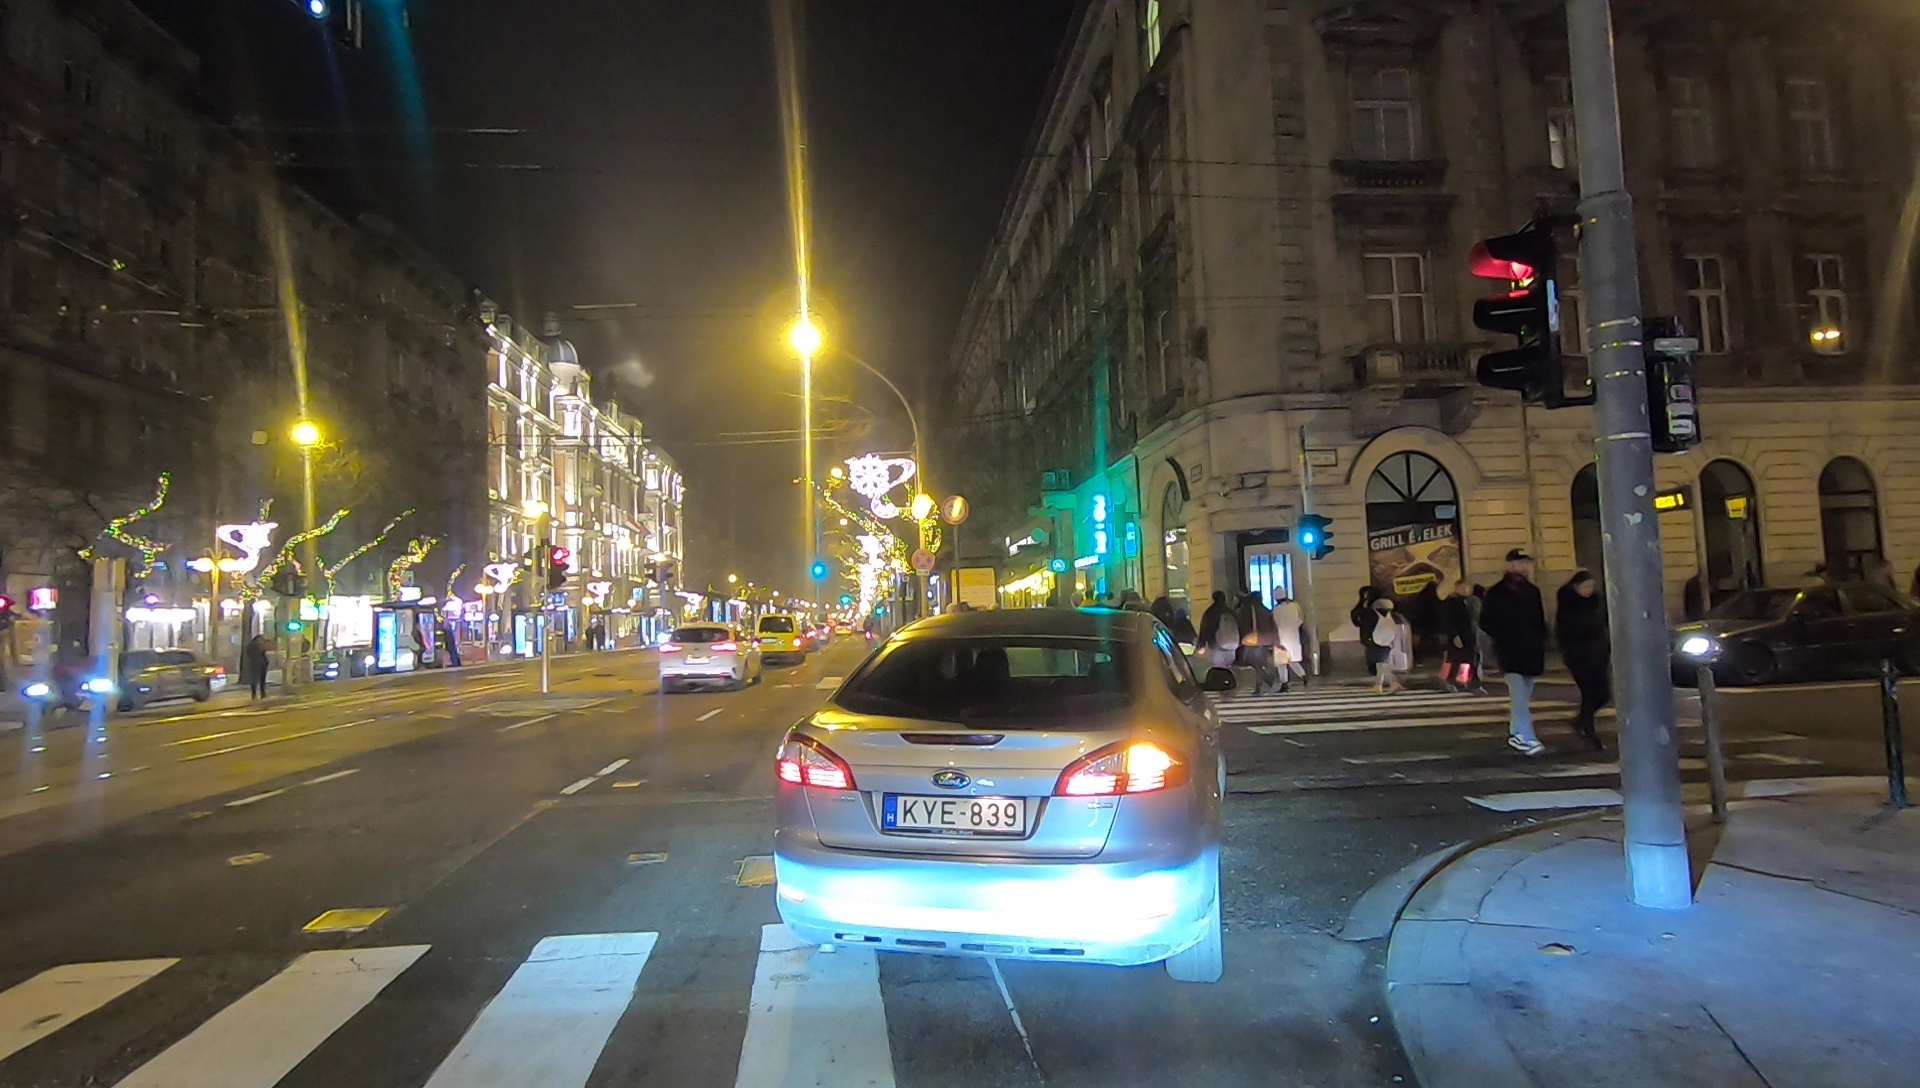person: (1487, 548, 1551, 760), (1559, 570, 1607, 748), (1238, 589, 1281, 701), (1200, 592, 1244, 694), (1363, 593, 1407, 694), (1269, 586, 1312, 686), (1448, 581, 1480, 693), (1169, 606, 1200, 686), (249, 632, 270, 698), (442, 622, 463, 666)
